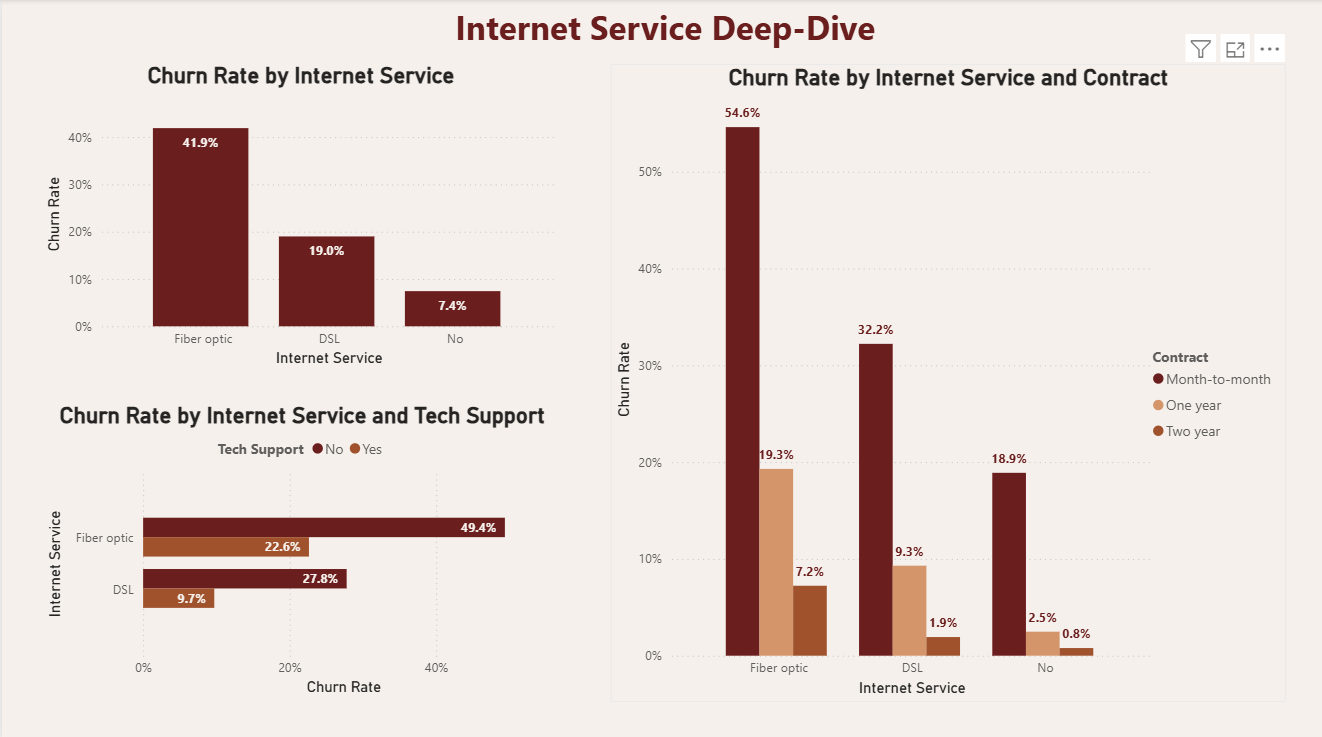

The dashboard page shown, as its layout file describes it:
{"tool":"powerbi","page":{"name":"Internet Service Deep-Dive","canvas":[1280,720],"ordinal":2},"visuals":[{"type":"textbox","box":[0,0,1280.3,62.4],"z":0},{"type":"clusteredColumnChart","fields":{"Category":["telco_churn_cleaned.Internet Service"],"Y":["telco_churn_cleaned.Churn Rate"]},"box":[37.9,61.1,502.6,298.4],"z":1000},{"type":"clusteredBarChart","fields":{"Category":["telco_churn_cleaned.Internet Service"],"Y":["telco_churn_cleaned.Churn Rate"],"Series":["telco_churn_cleaned.Tech Support"]},"box":[39.1,390.1,502.6,287.4],"z":2000},{"type":"clusteredColumnChart","fields":{"Category":["telco_churn_cleaned.Internet Service"],"Y":["telco_churn_cleaned.Churn Rate"],"Series":["telco_churn_cleaned.Contract"]},"box":[587,62.4,651.8,615.1],"z":3000}]}

Visuals, with their boxes in screenshot pixels (x1, y1, x2, y2), scaled from the page's 1280x720 canvas onto the 1322x737 screenshot:
textbox: pyautogui.locateOnScreen(0, 0, 1321, 64)
clusteredColumnChart - telco_churn_cleaned.Internet Service x telco_churn_cleaned.Churn Rate: pyautogui.locateOnScreen(39, 63, 558, 368)
clusteredBarChart - telco_churn_cleaned.Internet Service x telco_churn_cleaned.Churn Rate: pyautogui.locateOnScreen(40, 399, 559, 693)
clusteredColumnChart - telco_churn_cleaned.Internet Service x telco_churn_cleaned.Churn Rate: pyautogui.locateOnScreen(606, 64, 1279, 693)
